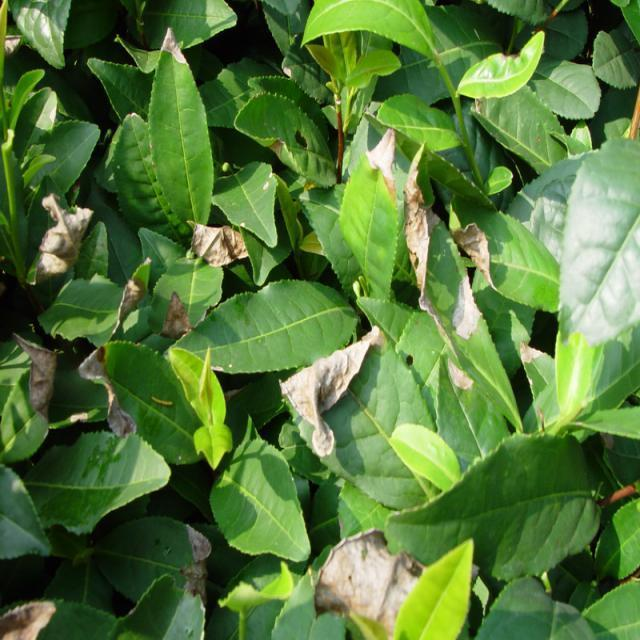Tea cloud leaf blight: (275, 306, 383, 441), (413, 143, 485, 326), (363, 125, 384, 200)
